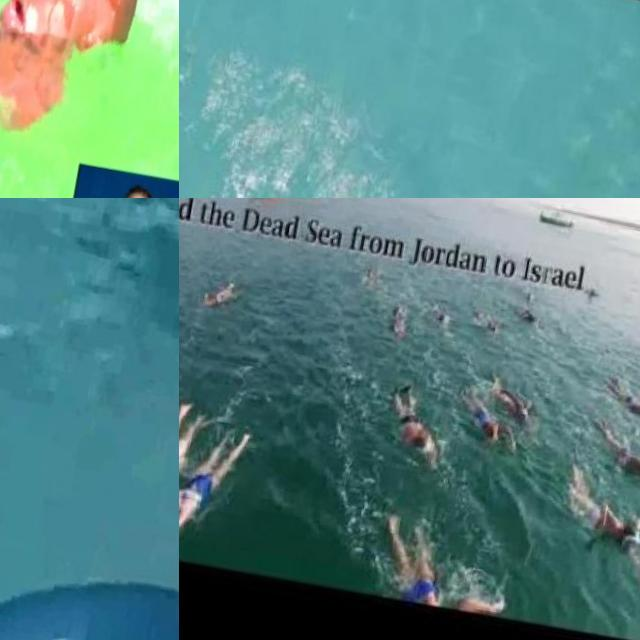swimming: (0, 0, 175, 198), (0, 497, 82, 640), (179, 414, 256, 565), (373, 370, 450, 477), (558, 468, 640, 557), (179, 384, 206, 560), (448, 391, 520, 452), (586, 419, 640, 486), (586, 372, 640, 423), (198, 264, 245, 311), (481, 378, 536, 417)
